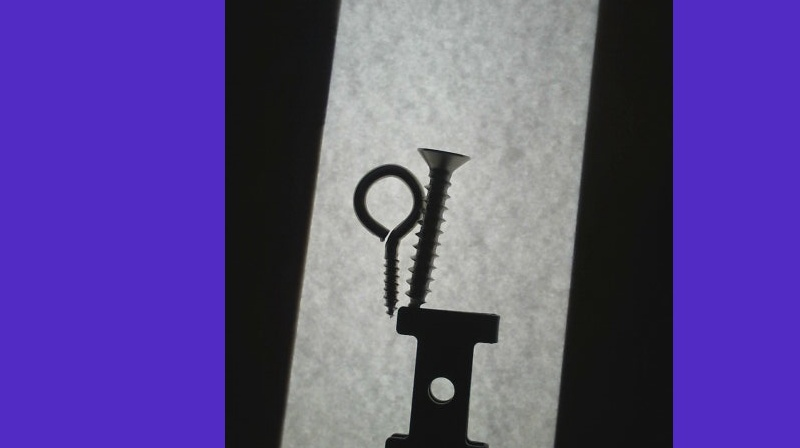O001: (349, 160, 423, 327)
O002: (382, 304, 501, 447)
S001: (405, 145, 473, 314)
